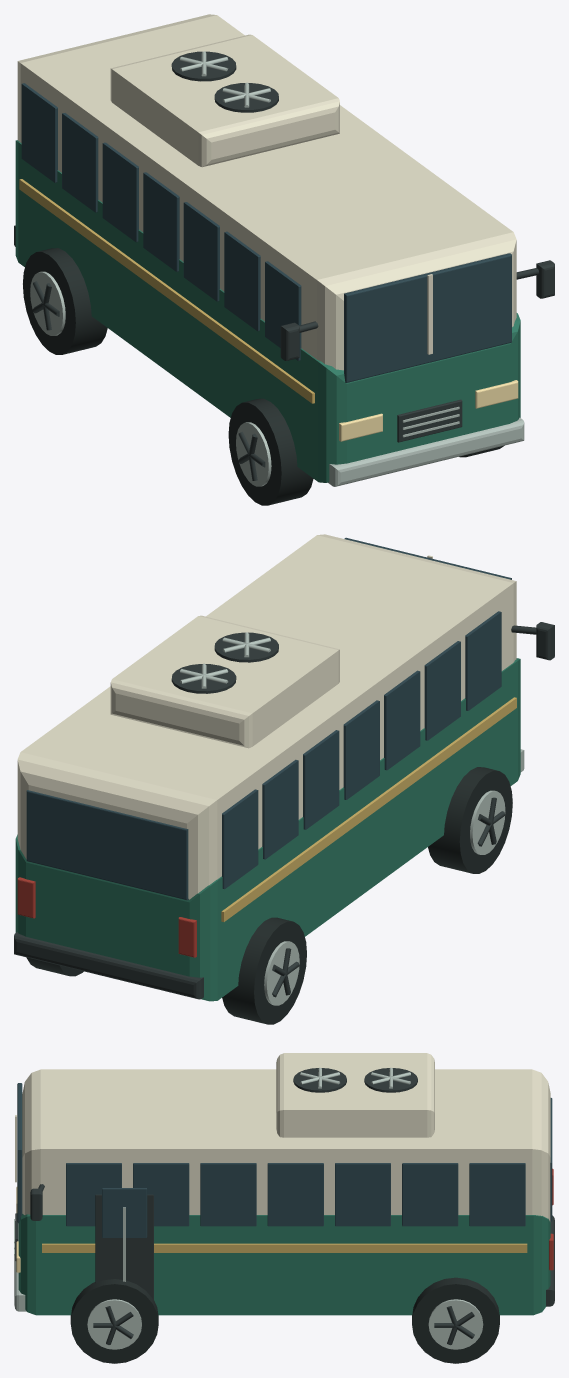
File: bus.glb
The picture shows the model from 3 angles, top to bottom: view 1: azimuth 30°, elevation 25°; view 2: azimuth 150°, elevation 25°; view 3: azimuth 270°, elevation 25°; orthographic projection. The views are drawn at different scales.
Parts seen in each view (by area): view 1: upper_body_cream, body_green, passenger_windows_glass, roof_ac_cream, windshield_glass, wheels_rubber, bumpers_chrome, side_stripe_gold, wheels_chrome, ac_fans_dark, headlights_lamp, grille_dark (+3 smaller); view 2: upper_body_cream, body_green, passenger_windows_glass, roof_ac_cream, rear_window_glass, wheels_rubber, bumpers_dark, side_stripe_gold, wheels_chrome, ac_fans_dark, tail_lights_tail, wheels_dark (+2 smaller); view 3: upper_body_cream, body_green, passenger_windows_glass, roof_ac_cream, wheels_rubber, side_stripe_gold, wheels_chrome, passenger_door_dark, door_window_glass, ac_fans_dark, wheels_dark, windshield_glass (+4 smaller).
Boxes of the visible parts, x1=… form: upper_body_cream: x1=17, y1=14, x2=516, y2=370; body_green: x1=15, y1=140, x2=520, y2=482; passenger_windows_glass: x1=21, y1=83, x2=301, y2=360; roof_ac_cream: x1=110, y1=34, x2=339, y2=167; windshield_glass: x1=344, y1=253, x2=511, y2=382; wheels_rubber: x1=23, y1=248, x2=504, y2=505; bumpers_chrome: x1=328, y1=417, x2=524, y2=486; side_stripe_gold: x1=19, y1=179, x2=314, y2=403; wheels_chrome: x1=30, y1=271, x2=271, y2=486; ac_fans_dark: x1=171, y1=51, x2=278, y2=112; headlights_lamp: x1=339, y1=380, x2=518, y2=441; grille_dark: x1=397, y1=399, x2=462, y2=442; upper_body_cream: x1=17, y1=534, x2=516, y2=899; body_green: x1=15, y1=658, x2=520, y2=1001; passenger_windows_glass: x1=222, y1=611, x2=501, y2=889; roof_ac_cream: x1=110, y1=615, x2=339, y2=748; rear_window_glass: x1=26, y1=790, x2=188, y2=900; wheels_rubber: x1=26, y1=767, x2=512, y2=1024; bumpers_dark: x1=14, y1=932, x2=203, y2=999; side_stripe_gold: x1=221, y1=697, x2=516, y2=921; wheels_chrome: x1=264, y1=790, x2=505, y2=1005; ac_fans_dark: x1=171, y1=632, x2=278, y2=693; tail_lights_tail: x1=17, y1=877, x2=196, y2=957; wheels_dark: x1=272, y1=797, x2=505, y2=997; upper_body_cream: x1=22, y1=1069, x2=550, y2=1221; body_green: x1=18, y1=1214, x2=550, y2=1315; passenger_windows_glass: x1=66, y1=1163, x2=525, y2=1226; roof_ac_cream: x1=276, y1=1053, x2=434, y2=1137; wheels_rubber: x1=70, y1=1277, x2=499, y2=1363; side_stripe_gold: x1=42, y1=1243, x2=527, y2=1252; wheels_chrome: x1=87, y1=1299, x2=483, y2=1349; passenger_door_dark: x1=95, y1=1194, x2=153, y2=1300; door_window_glass: x1=102, y1=1188, x2=147, y2=1237; ac_fans_dark: x1=293, y1=1068, x2=417, y2=1092; wheels_dark: x1=93, y1=1306, x2=474, y2=1345; windshield_glass: x1=17, y1=1083, x2=22, y2=1223.
Size of the model in its own units: 1.14 by 1.18 by 2.4.
